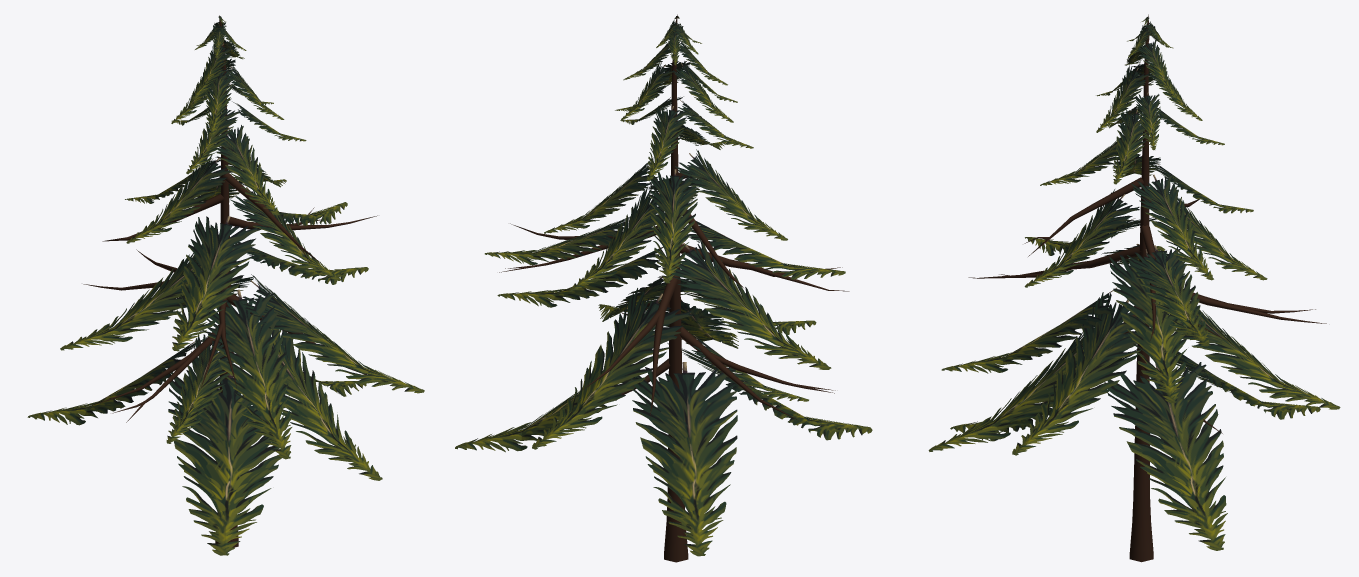
The model's file is Tree Test.fbx.
The picture shows the model from 3 angles, left to right: view 1: azimuth 30°, elevation 25°; view 2: azimuth 150°, elevation 25°; view 3: azimuth 270°, elevation 25°; orthographic projection. The views are drawn at different scales.
Parts seen in each view (by area): view 1: Leaves, Trunk; view 2: Leaves, Trunk; view 3: Leaves, Trunk.
Part boxes in pixels (left/top/right/bottom): Leaves: left=27, top=16, right=424, bottom=555; Trunk: left=83, top=15, right=377, bottom=547; Leaves: left=455, top=16, right=872, bottom=556; Trunk: left=499, top=14, right=849, bottom=562; Leaves: left=928, top=17, right=1340, bottom=550; Trunk: left=968, top=14, right=1326, bottom=562.
Bounding box in the file's own units: 1567 × 2298 × 1623.
